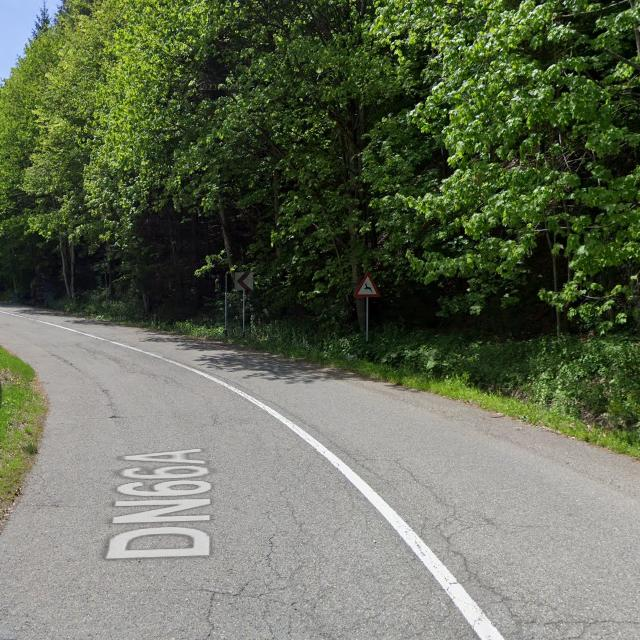warn_wild_animals: (354, 271, 380, 297)
